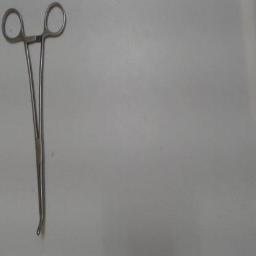Lahey Forceps: (0, 1, 70, 237)
